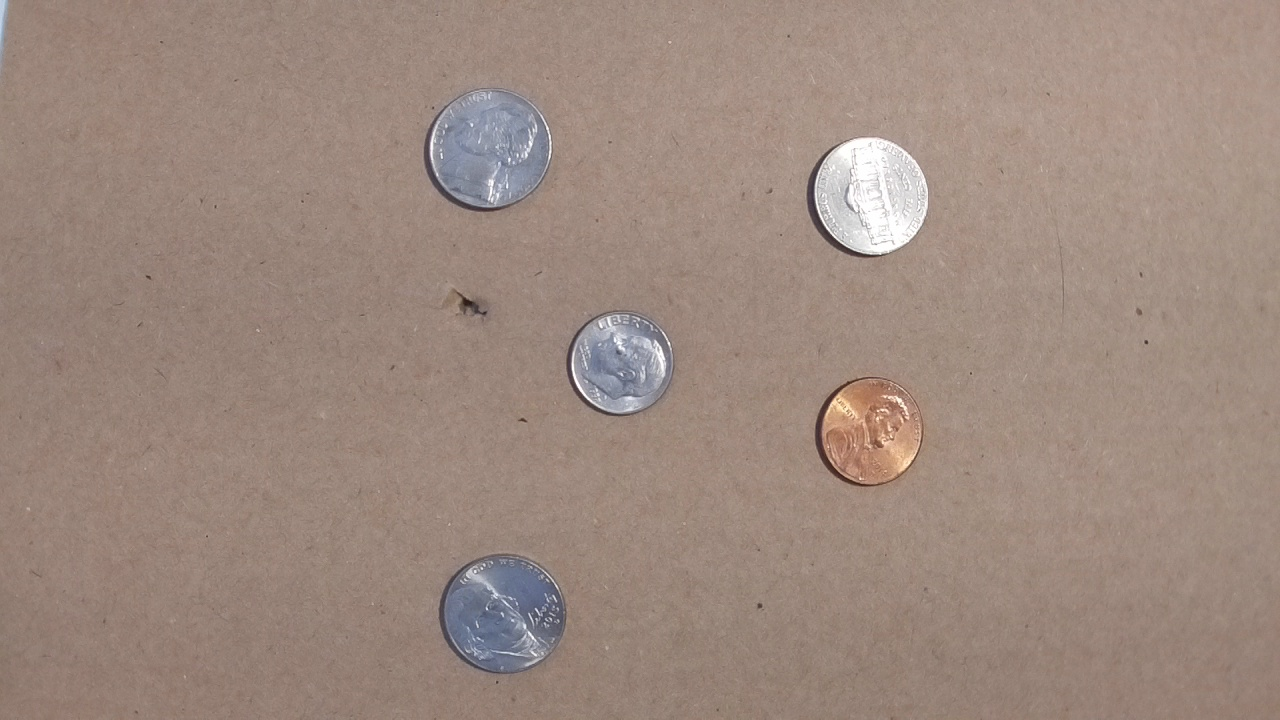dime: (564, 308, 676, 418)
nickel: (418, 83, 560, 217), (804, 129, 932, 265), (434, 550, 570, 678)
penny: (812, 371, 928, 489)
